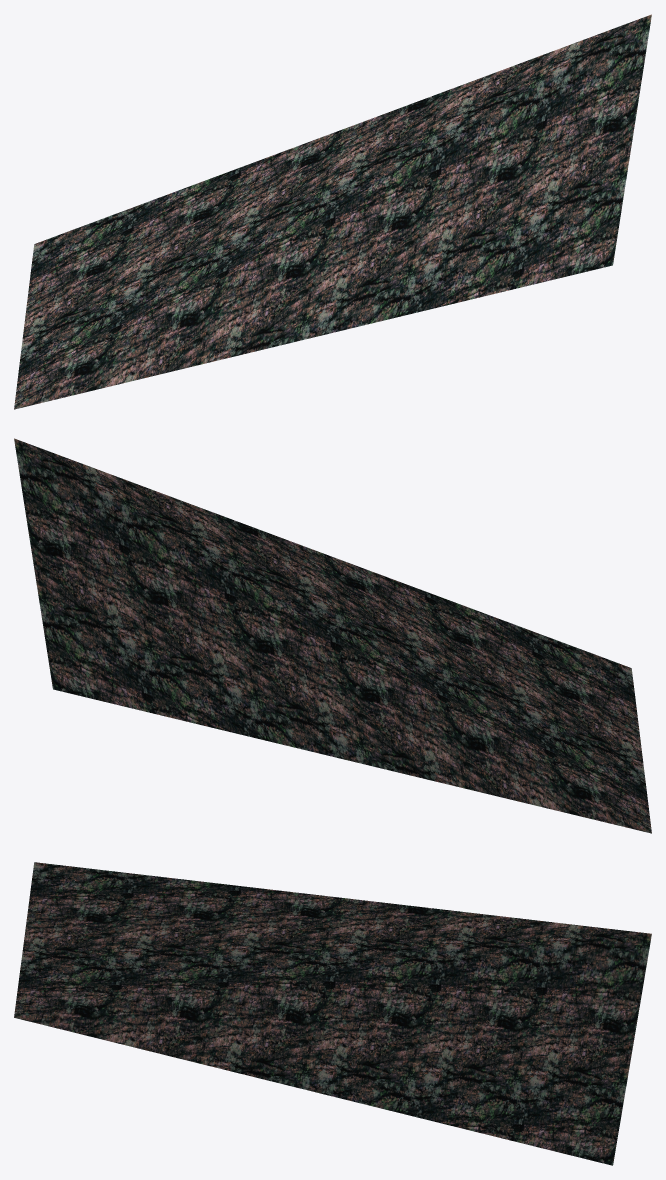
The model's file is decd_dath_blacktreelog_l3.fbx.
The picture shows the model from 3 angles, top to bottom: view 1: azimuth 30°, elevation 25°; view 2: azimuth 150°, elevation 25°; view 3: azimuth 330°, elevation 25°; orthographic projection.
Parts seen in each view (by area): view 1: mesh_node; view 2: mesh_node; view 3: mesh_node.
Boxes of the visible parts, bbox=[...] form: mesh_node: bbox=[14, 14, 651, 409]; mesh_node: bbox=[14, 438, 651, 833]; mesh_node: bbox=[14, 862, 651, 1165].
Bounding box in the file's own units: 6.03 × 2.18 × 0.
